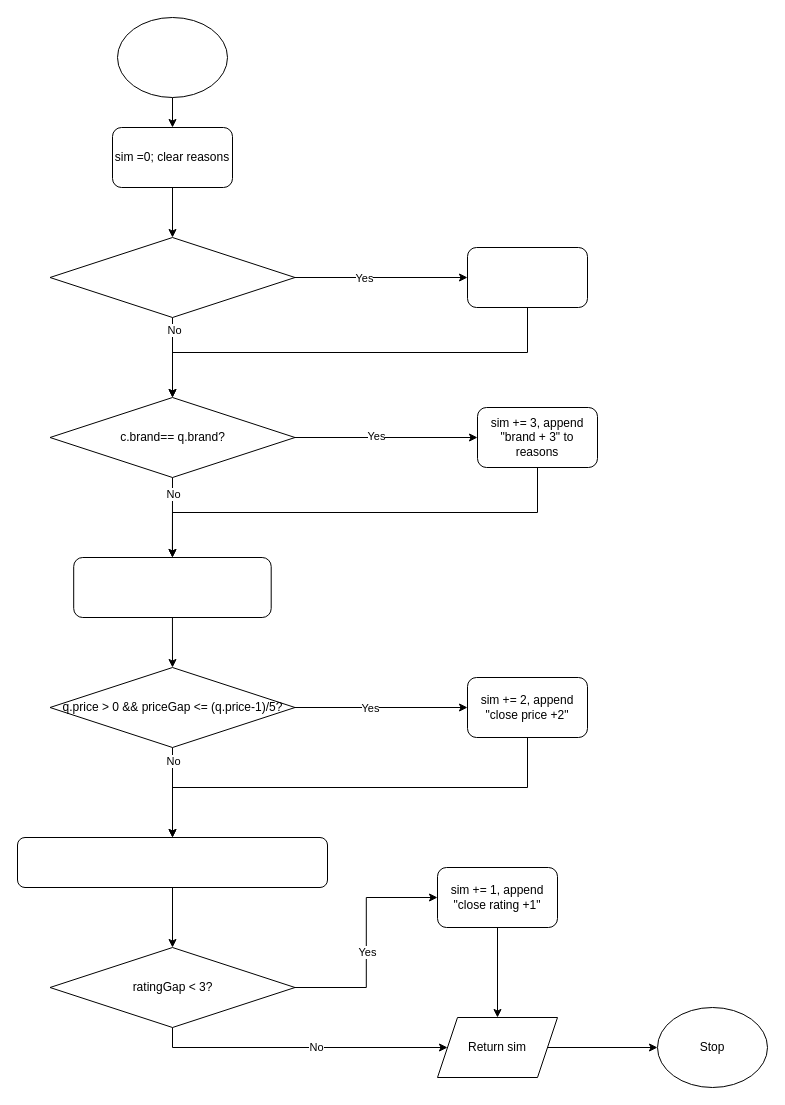
The diagram is 785 pixels wide and 1105 high, and some of its shapes have lost their labels. Each missing label, with the box of its shape:
c.category == q.category?: (49, 236, 295, 318)
priceGap = |c.price -q.price|: (73, 556, 271, 618)
ratingGap = |c.ratingTenths - q.ratingTenths|: (16, 836, 328, 888)
sim += 4; reasons = "category +4": (466, 246, 588, 308)
START: (116, 16, 228, 98)
